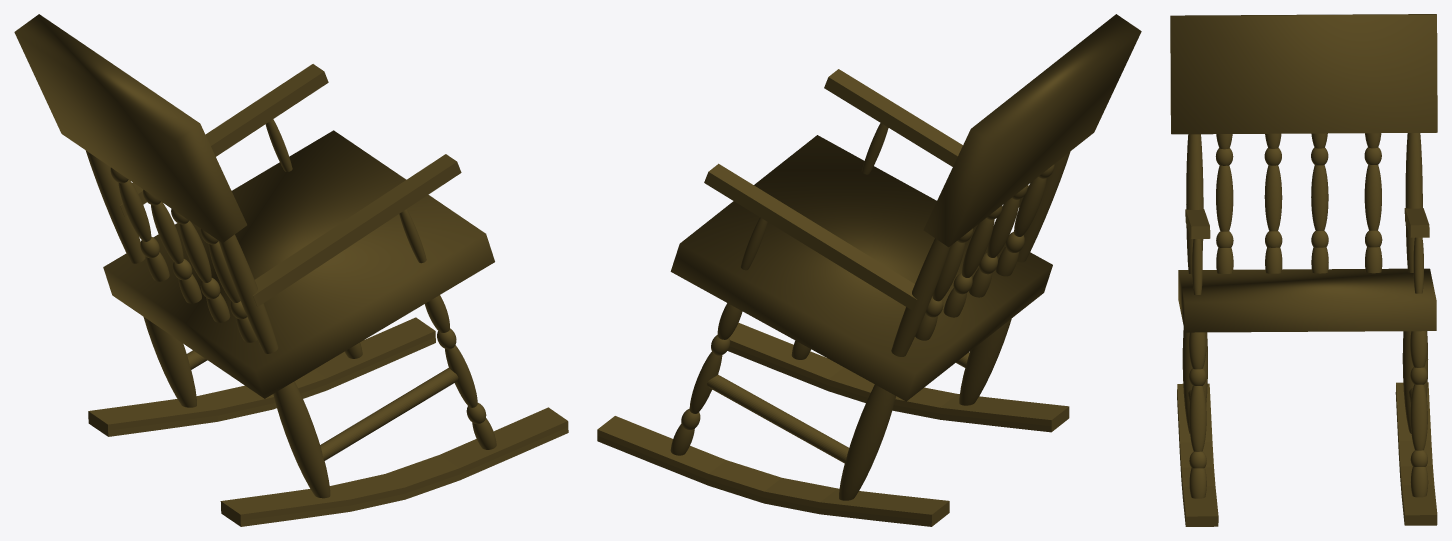
Rendered from ROCKING CHAIR.fbx.
The picture shows the model from 3 angles, left to right: view 1: azimuth 30°, elevation 25°; view 2: azimuth 150°, elevation 25°; view 3: azimuth 270°, elevation 25°; orthographic projection. The views are drawn at different scales.
Parts seen in each view (by area): view 1: Sphere.021; view 2: Sphere.021; view 3: Sphere.021.
Part boxes in pixels (x1,y1,x2,y2): Sphere.021: (14,14,568,526); Sphere.021: (597,14,1141,526); Sphere.021: (1170,14,1437,526).
Size of the model in its own units: 1727 by 1749 by 1132.
